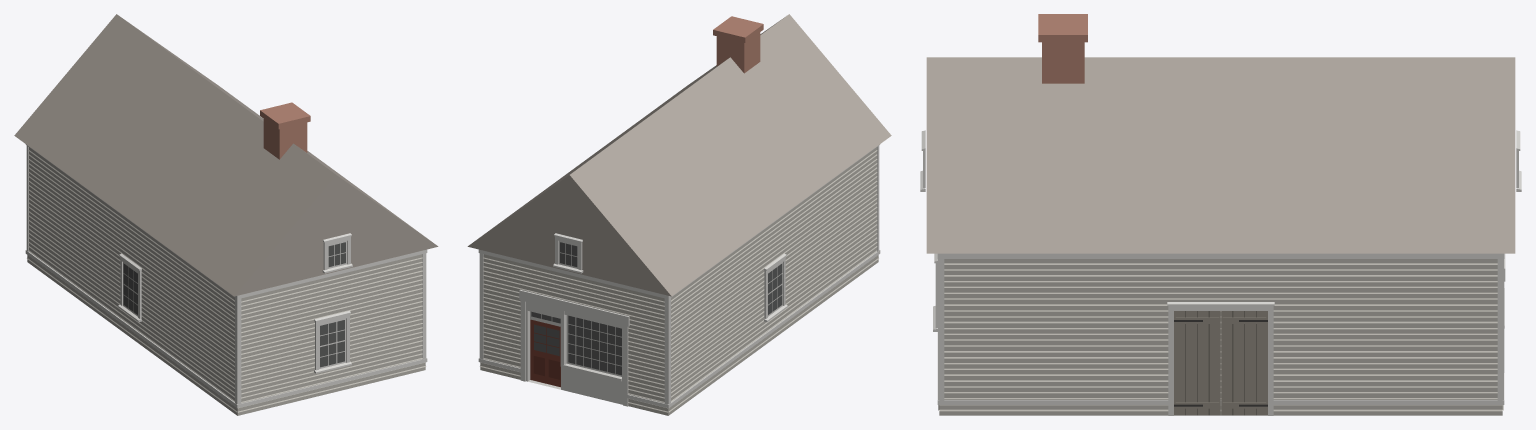
The model's file is recon_1835_blk_south_water_lasalle_c2_11__inferred_1835.glb.
3 renders of one model, left to right at view 1: azimuth 30°, elevation 25°; view 2: azimuth 150°, elevation 25°; view 3: azimuth 270°, elevation 25°, orthographic. The views are drawn at different scales.
Visible parts, largest first — view 1: recon_1835_blk_south_water_lasalle_c2_11__inferred_1835; view 2: recon_1835_blk_south_water_lasalle_c2_11__inferred_1835; view 3: recon_1835_blk_south_water_lasalle_c2_11__inferred_1835.
Boxes of the visible parts, bbox=[...] form: recon_1835_blk_south_water_lasalle_c2_11__inferred_1835: bbox=[14, 14, 438, 415]; recon_1835_blk_south_water_lasalle_c2_11__inferred_1835: bbox=[467, 14, 891, 415]; recon_1835_blk_south_water_lasalle_c2_11__inferred_1835: bbox=[920, 14, 1521, 415].
Bounding box in the file's own units: 6.23 × 7.15 × 11.83.
